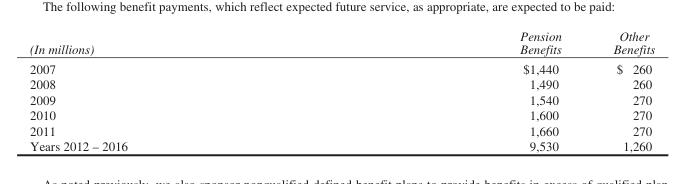table: (29, 28, 654, 152)
table column: (29, 28, 323, 152), (323, 28, 586, 152), (586, 28, 654, 152)
table column header: (29, 28, 654, 58)
table row: (29, 28, 654, 58), (29, 58, 654, 75), (29, 75, 654, 91), (29, 106, 654, 122), (29, 91, 654, 106), (29, 122, 654, 137), (29, 137, 654, 152)
